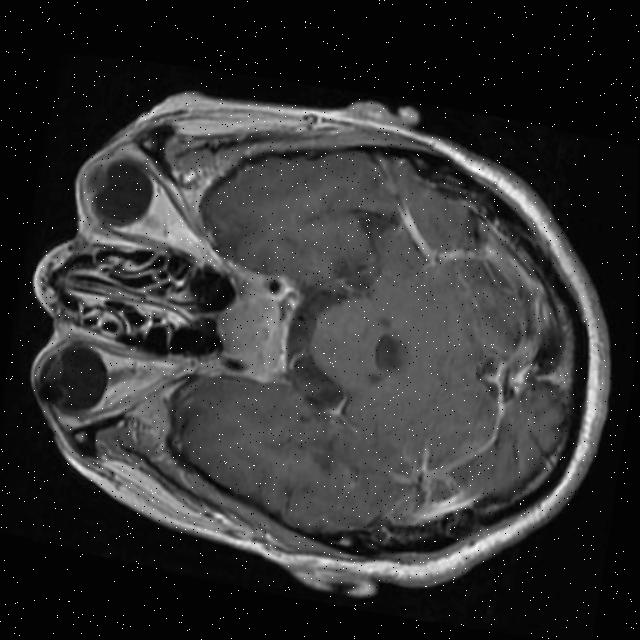Pituitary: (211, 284, 283, 365)
